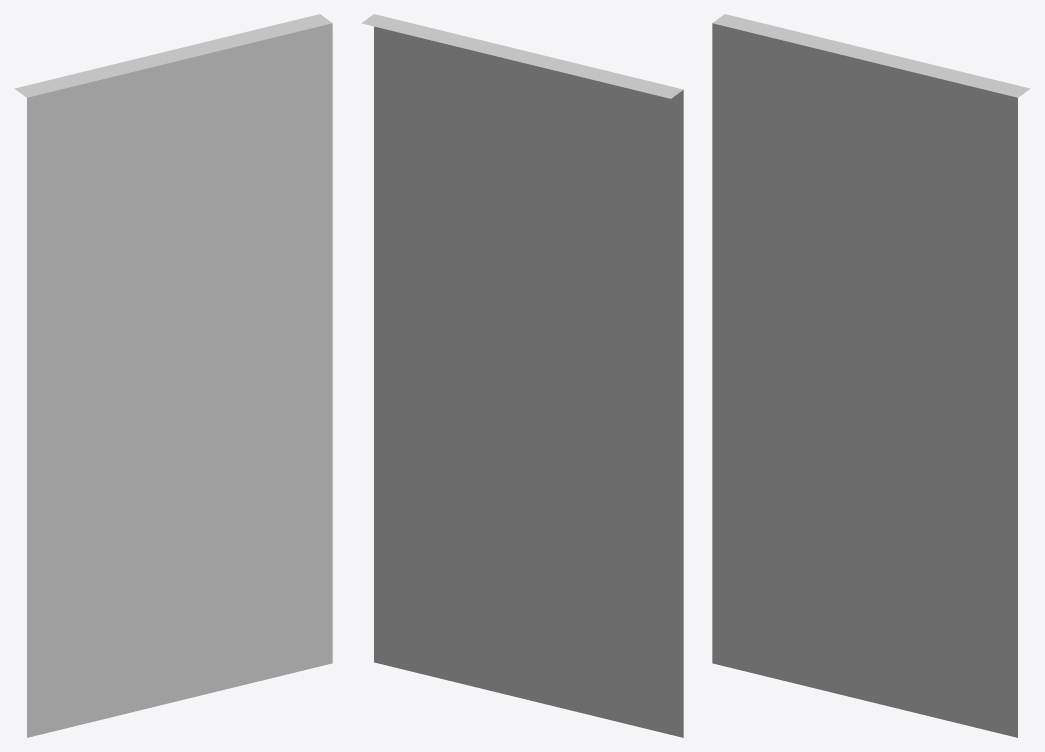
File: M_Wall350x700White80.fbx
3 renders of one model, left to right at view 1: azimuth 30°, elevation 25°; view 2: azimuth 150°, elevation 25°; view 3: azimuth 330°, elevation 25°, orthographic.
Visible parts, largest first — view 1: M_Wall350x700White80; view 2: M_Wall350x700White80; view 3: M_Wall350x700White80.
Boxes of the visible parts, left/top/right/bottom form: M_Wall350x700White80: left=14, top=14, right=332, bottom=737; M_Wall350x700White80: left=361, top=14, right=683, bottom=737; M_Wall350x700White80: left=712, top=14, right=1030, bottom=737.
Size of the model in its own units: 350 by 25 by 700.
